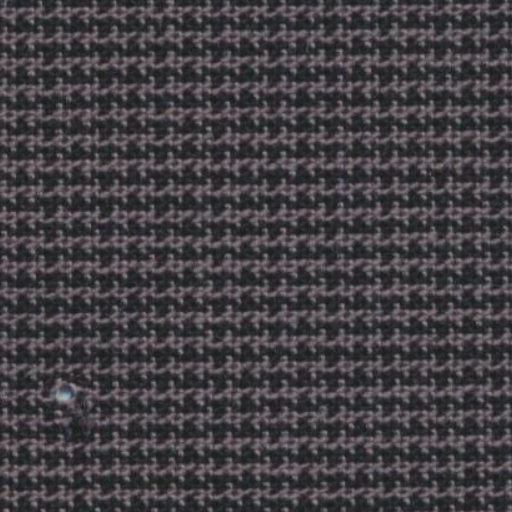PoDong: (22, 359, 121, 432)
